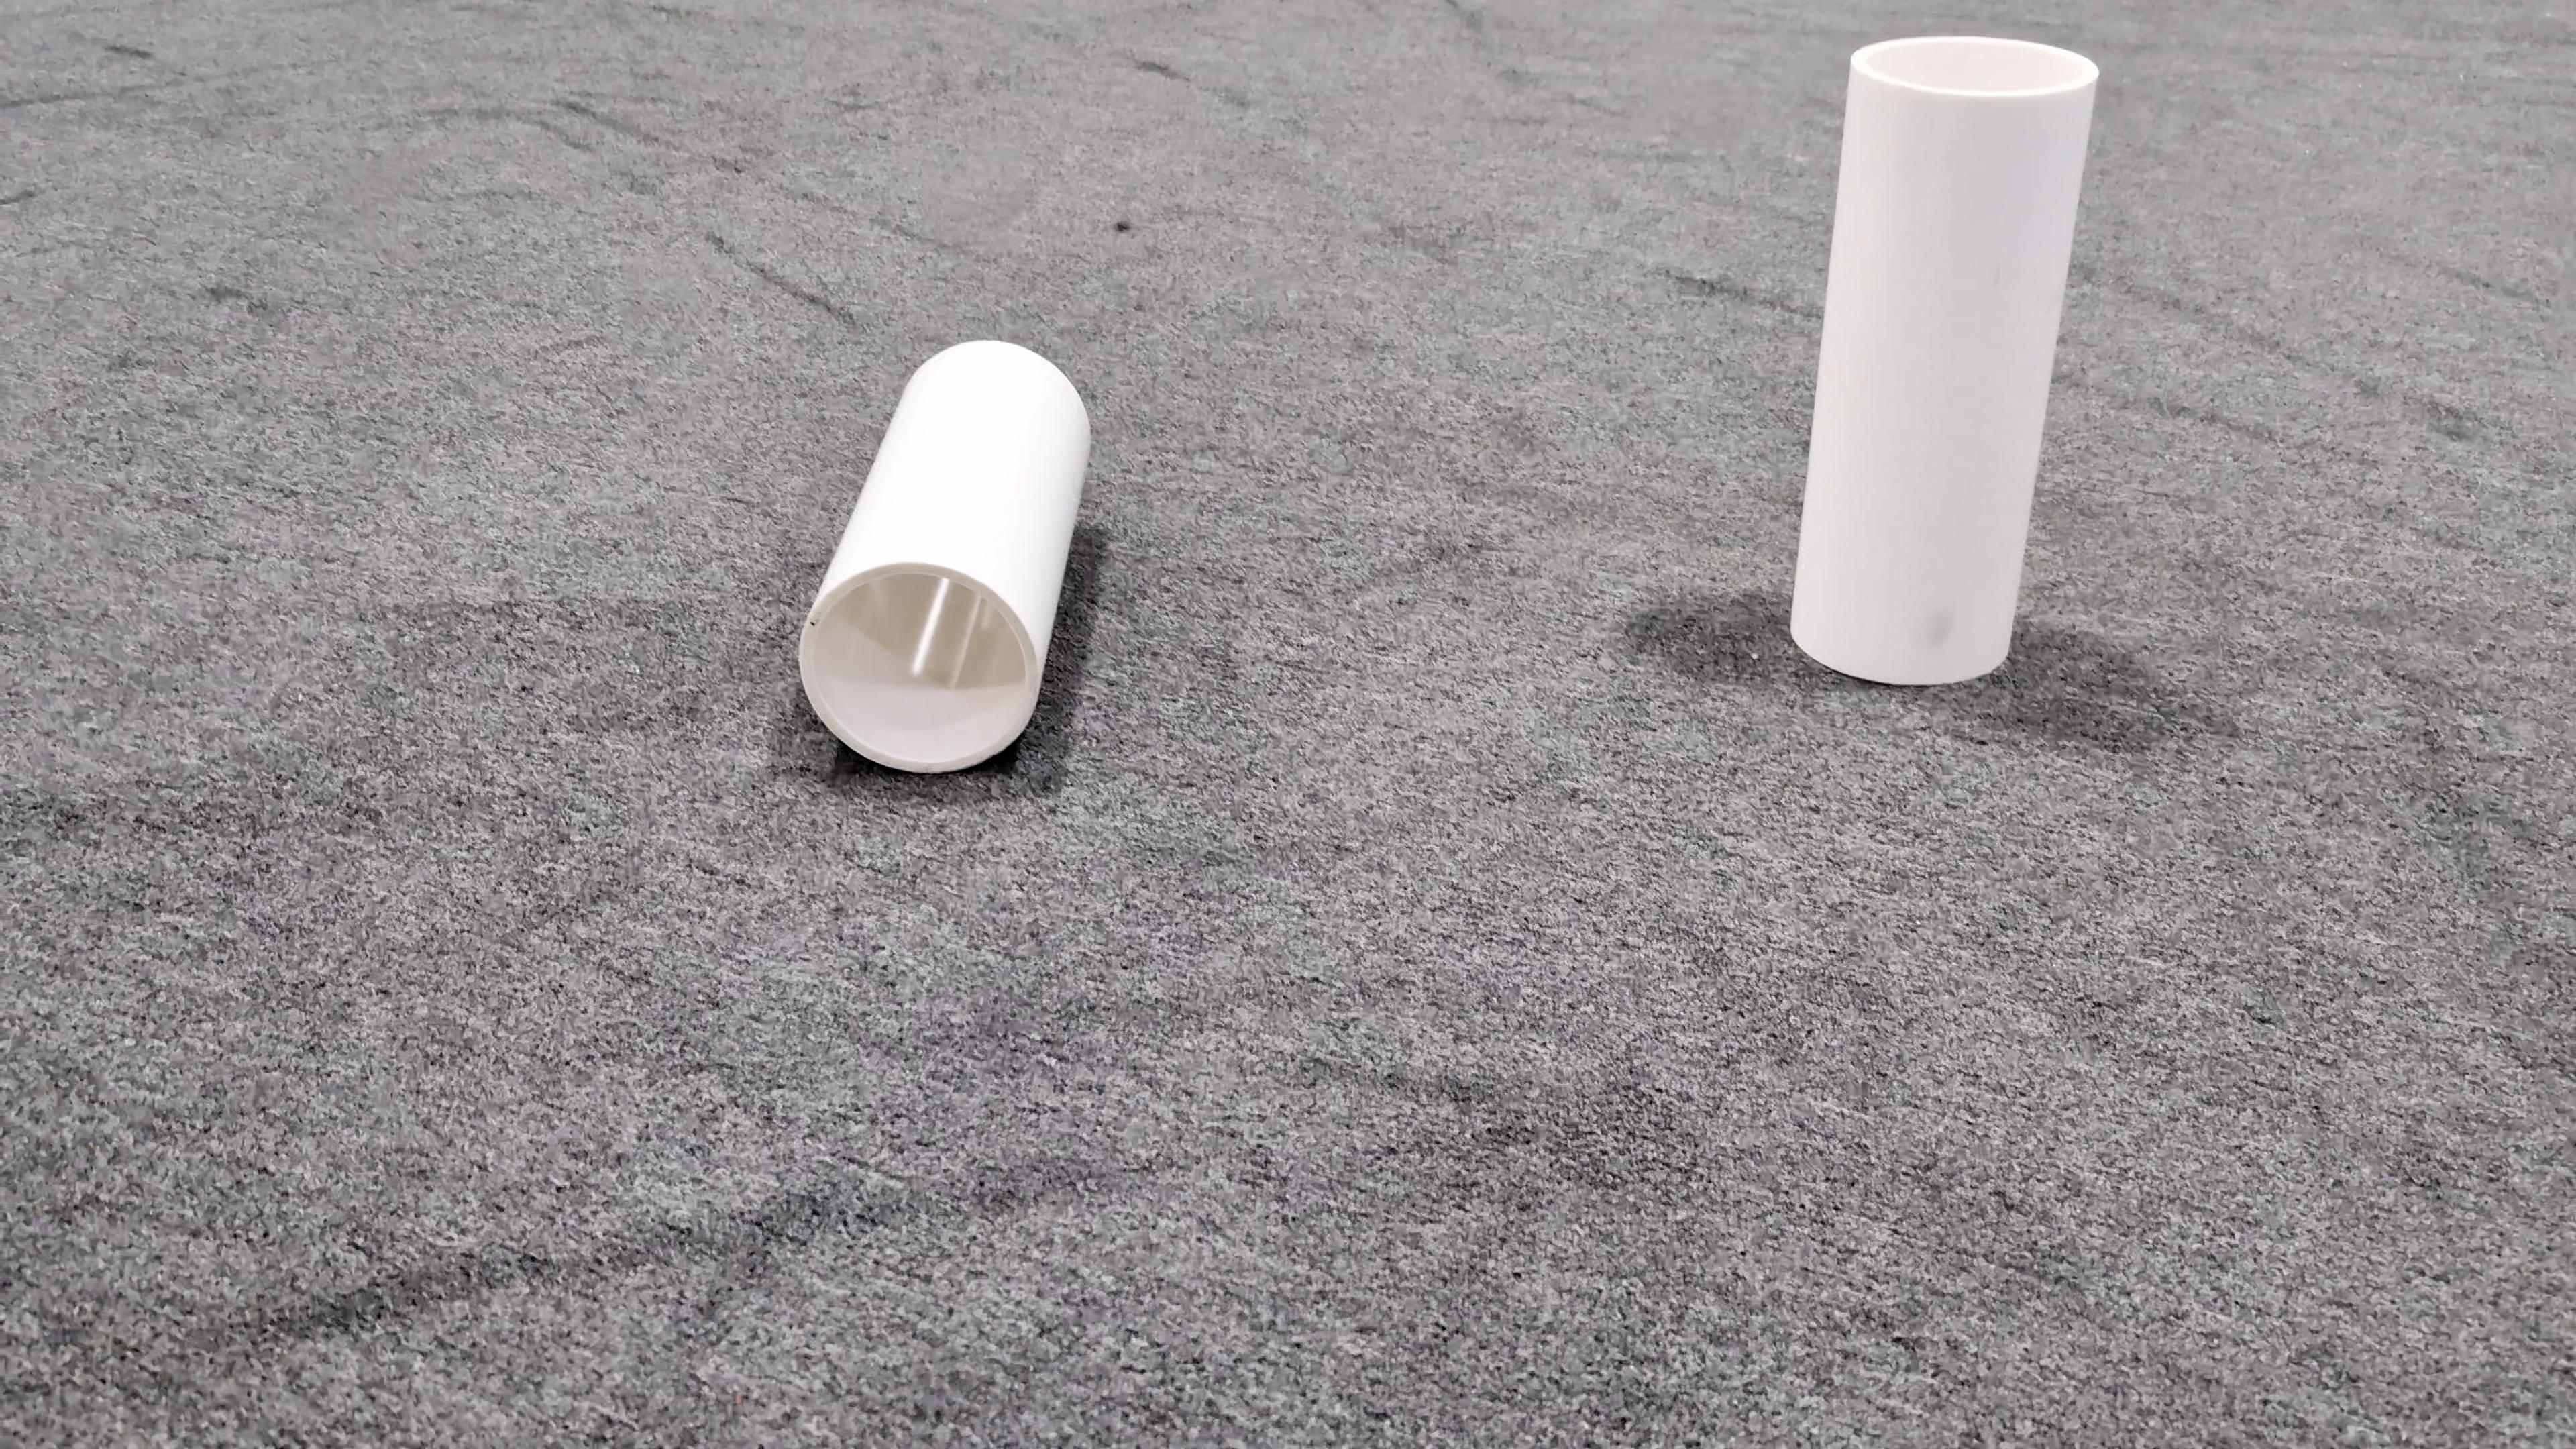coral: (1783, 30, 2100, 683), (796, 338, 1092, 773)
